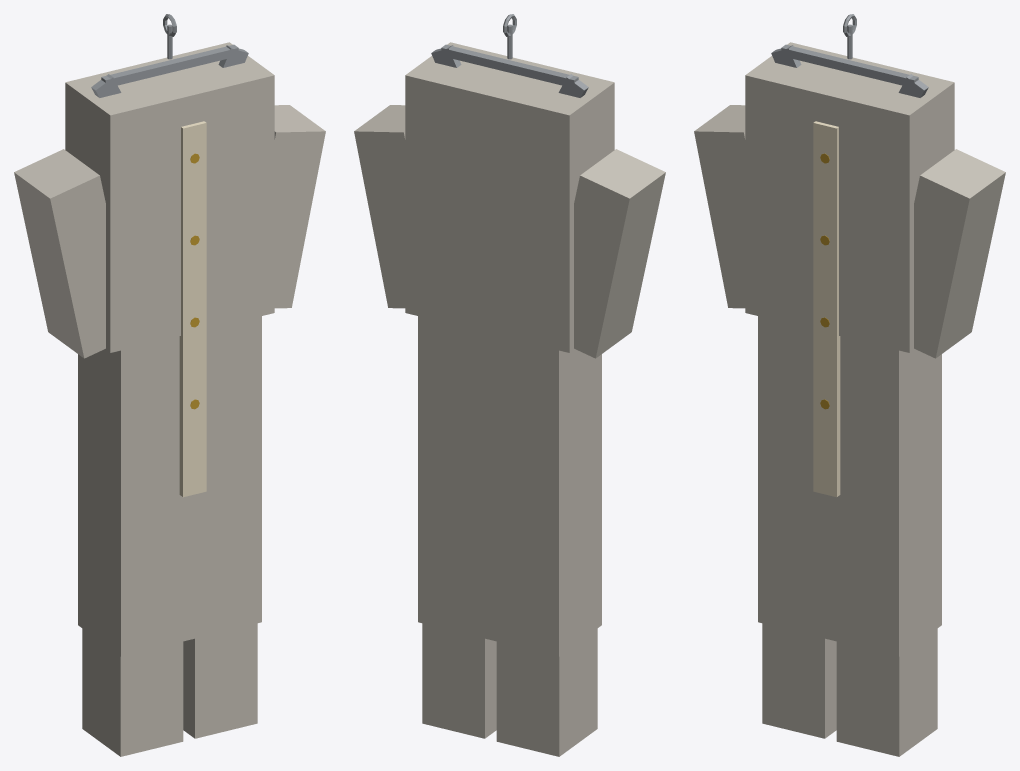
File: costume.glb
The picture shows the model from 3 angles, left to right: view 1: azimuth 30°, elevation 25°; view 2: azimuth 150°, elevation 25°; view 3: azimuth 330°, elevation 25°; orthographic projection.
Visible parts, largest first — view 1: costume; view 2: costume; view 3: costume.
Part boxes in pixels (<box>): costume: <box>14,14,325,756</box>; costume: <box>354,14,665,756</box>; costume: <box>694,14,1005,756</box>.
Bounding box in the file's own units: 0.7045 × 1.74 × 0.211.
